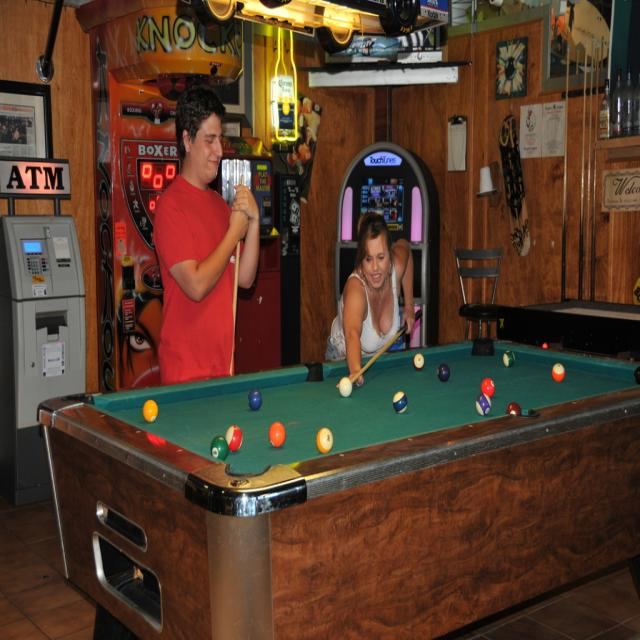Ball: (267, 418, 285, 451), (210, 432, 225, 463), (226, 427, 243, 453), (144, 399, 158, 423), (550, 363, 566, 383), (317, 431, 335, 448), (391, 388, 406, 408), (248, 391, 262, 409), (476, 396, 490, 414), (339, 376, 351, 395), (439, 363, 454, 378), (508, 404, 522, 418), (482, 381, 496, 394), (414, 352, 424, 366), (505, 353, 513, 368)
Billiard table: (37, 340, 639, 640)
